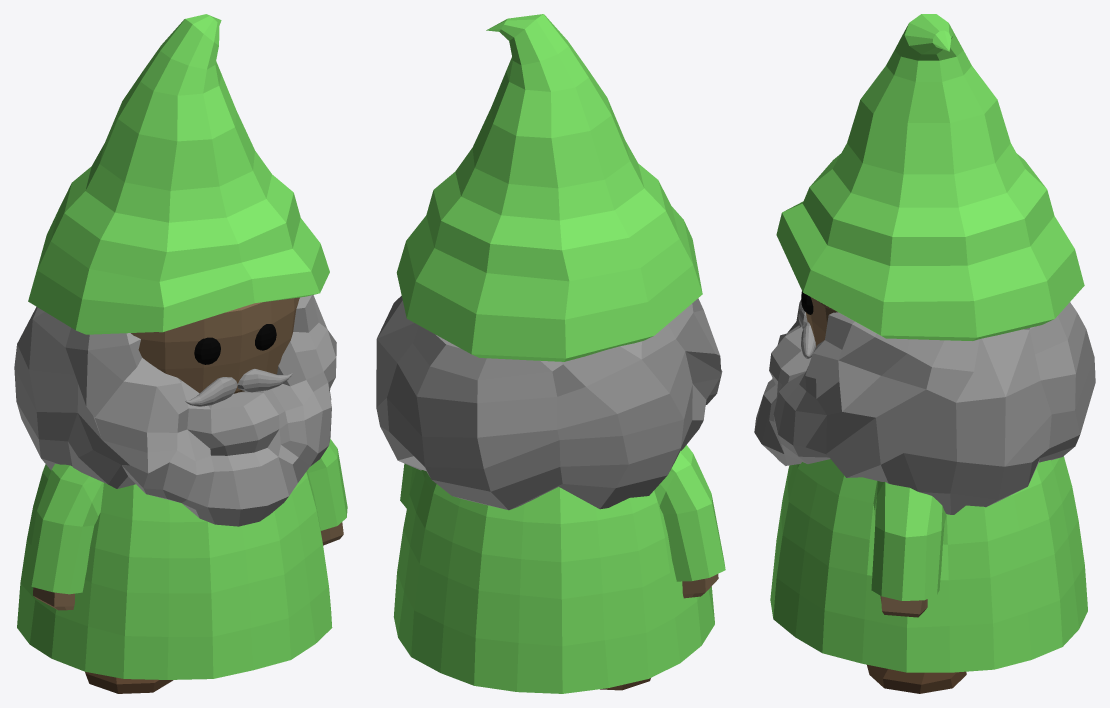
Rendered from green_gnome.fbx.
3 views of the same model, side by side, from view 1: azimuth 30°, elevation 25°; view 2: azimuth 150°, elevation 25°; view 3: azimuth 270°, elevation 25° (orthographic).
Parts seen in each view (by area): view 1: gnome_combined; view 2: gnome_combined; view 3: gnome_combined.
Boxes of the visible parts, box(x1,y1,x2,y2) form: gnome_combined: box(14, 14, 347, 693); gnome_combined: box(376, 14, 725, 693); gnome_combined: box(754, 14, 1095, 693).
Size of the model in its own units: 10.86 by 20.81 by 10.08.
